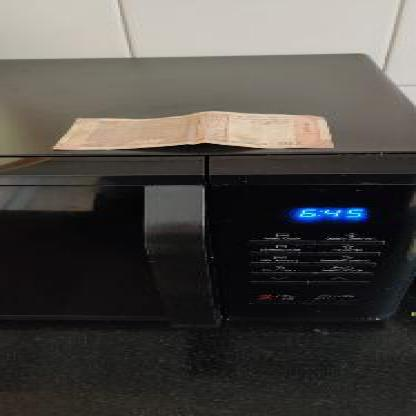New10Back: (51, 112, 334, 148)
